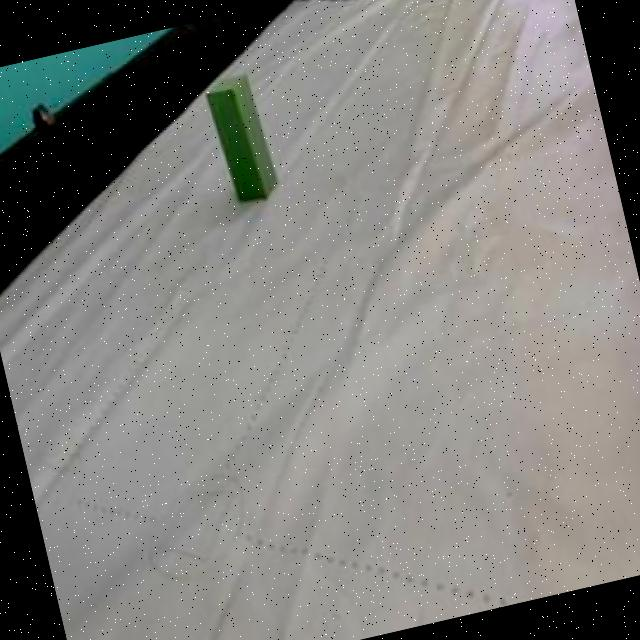greenbox: (197, 68, 282, 208)
